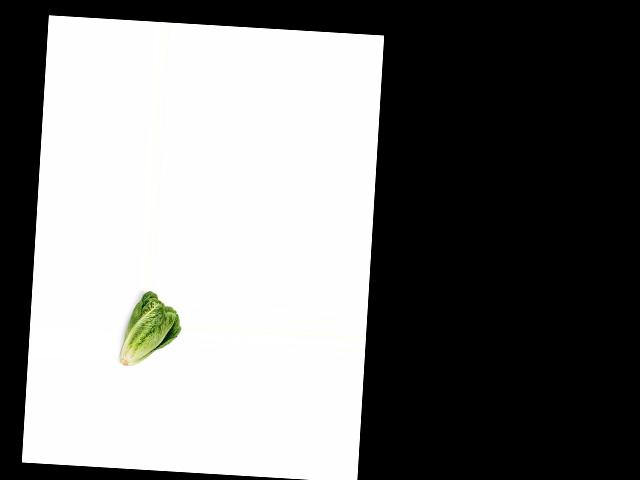lettuce: (117, 290, 182, 370)
